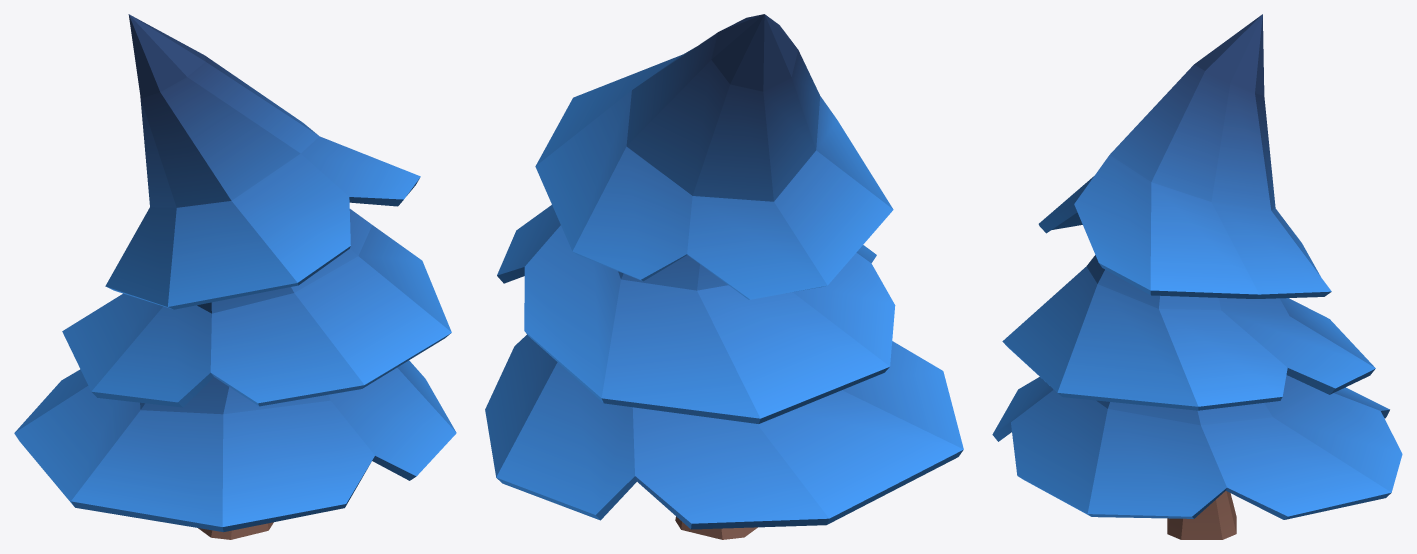
The model's file is BluePine4.fbx.
The picture shows the model from 3 angles, left to right: view 1: azimuth 30°, elevation 25°; view 2: azimuth 150°, elevation 25°; view 3: azimuth 270°, elevation 25°; orthographic projection. The views are drawn at different scales.
Visible parts, largest first — view 1: BluePine4; view 2: BluePine4; view 3: BluePine4.
Part boxes in pixels (box(x1,y1,x2,y2)): BluePine4: box(14, 14, 456, 539); BluePine4: box(485, 14, 963, 539); BluePine4: box(992, 14, 1402, 539).
Size of the model in its own units: 436 by 551 by 428.
